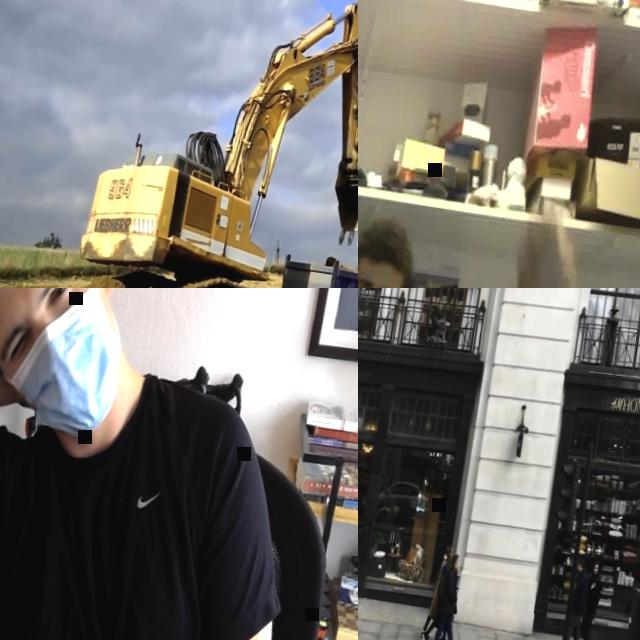machinery: (70, 0, 358, 288)
mask: (0, 288, 138, 444)
no_helmet: (358, 217, 420, 279), (446, 542, 456, 556), (454, 552, 462, 563), (578, 557, 586, 566), (450, 553, 456, 563), (596, 559, 603, 567)
no_mask: (456, 560, 461, 570), (578, 566, 584, 572), (595, 570, 600, 576)
no_vest: (0, 357, 243, 640), (440, 570, 459, 620), (434, 556, 449, 606), (438, 568, 450, 613)
person: (0, 288, 351, 640), (358, 90, 597, 288), (420, 540, 459, 640), (432, 553, 475, 640), (422, 552, 464, 640), (560, 556, 596, 640), (576, 556, 608, 640)
